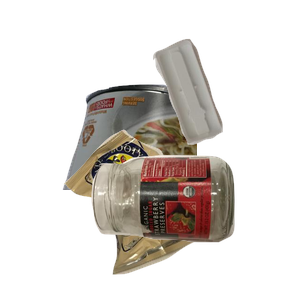glass: (89, 153, 300, 300)
metal: (60, 82, 300, 262)
plastic: (150, 36, 300, 173)
trash: (61, 127, 260, 300)
